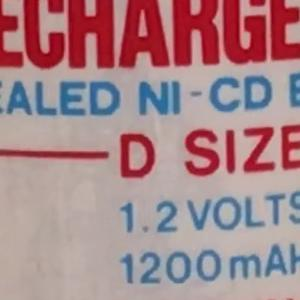NI-CD: (122, 66, 282, 150)
